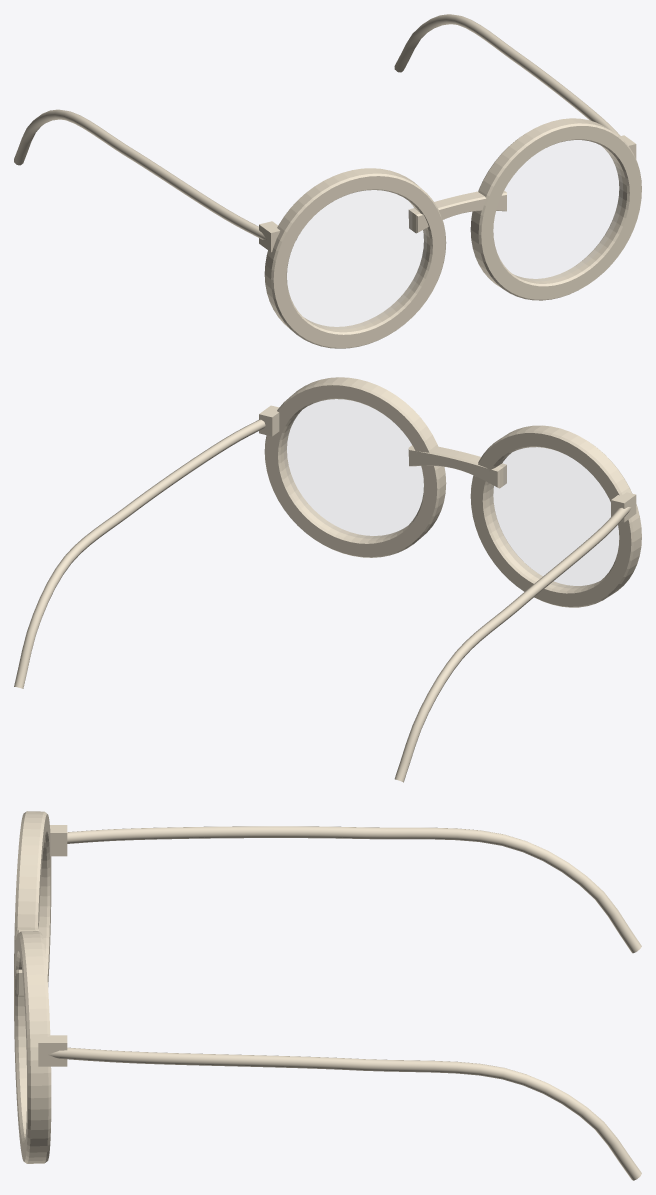
The model's file is NY-W02_Nila_Ivory.glb.
3 views of the same model, one above another, from view 1: azimuth 30°, elevation 25°; view 2: azimuth 150°, elevation 25°; view 3: azimuth 270°, elevation 25° (orthographic). The views are drawn at different scales.
Visible parts, largest first — view 1: Nila_Ivory_Acetate, Nila_Ivory_Lenses; view 2: Nila_Ivory_Acetate, Nila_Ivory_Lenses; view 3: Nila_Ivory_Acetate.
Part boxes in pixels (x1,y1,x2,y2): Nila_Ivory_Acetate: (14, 14, 641, 348); Nila_Ivory_Lenses: (287, 140, 622, 328); Nila_Ivory_Acetate: (14, 377, 641, 782); Nila_Ivory_Lenses: (284, 399, 618, 587); Nila_Ivory_Acetate: (14, 811, 641, 1180).
Bounding box in the file's own units: 0.1354 × 0.0554 × 0.1506.
